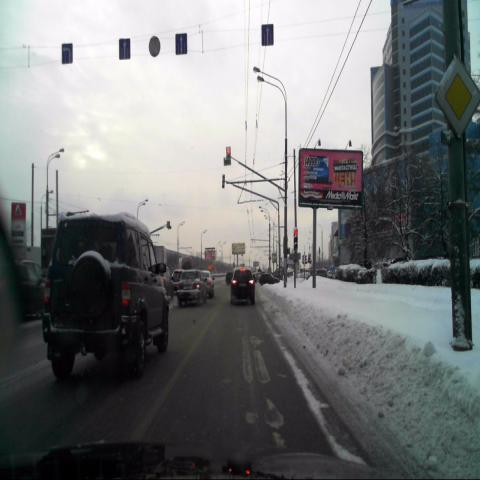5_15_2: (262, 24, 273, 44)
